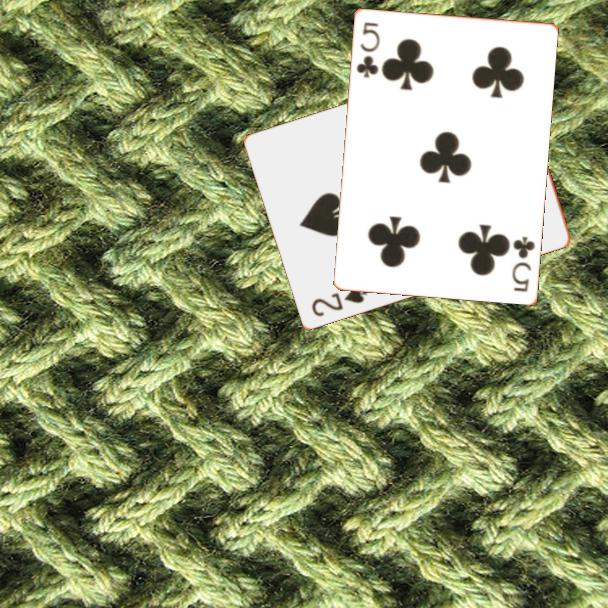c05: (352, 18, 382, 80), (508, 233, 538, 295)
s02: (308, 283, 370, 319)
